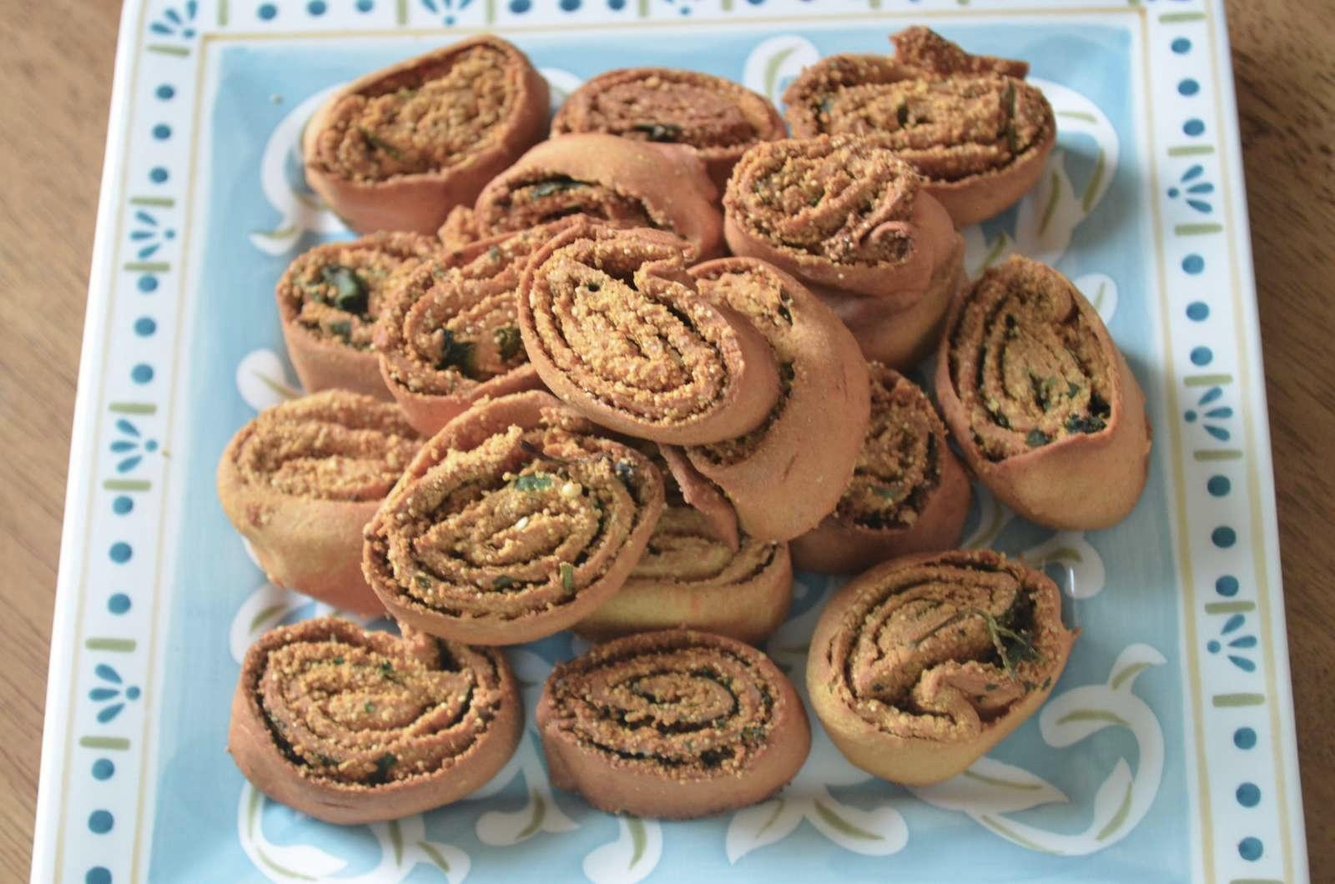bhakarwadi: (215, 29, 1153, 824)
